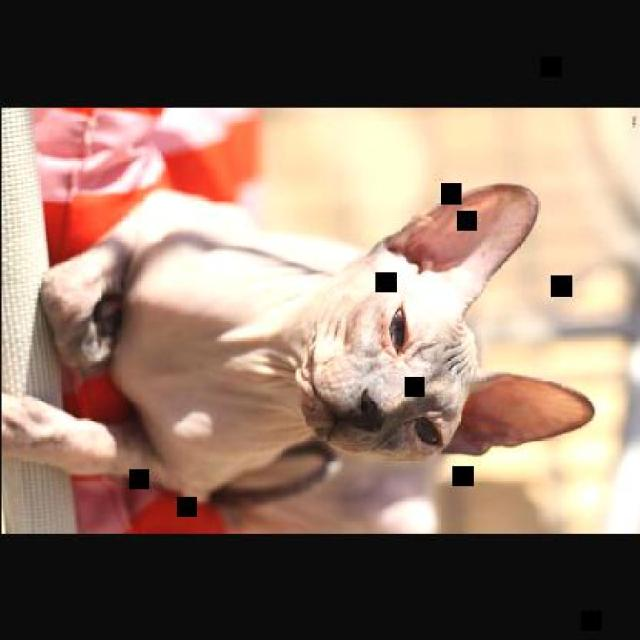unauthorized: (0, 178, 594, 530)
